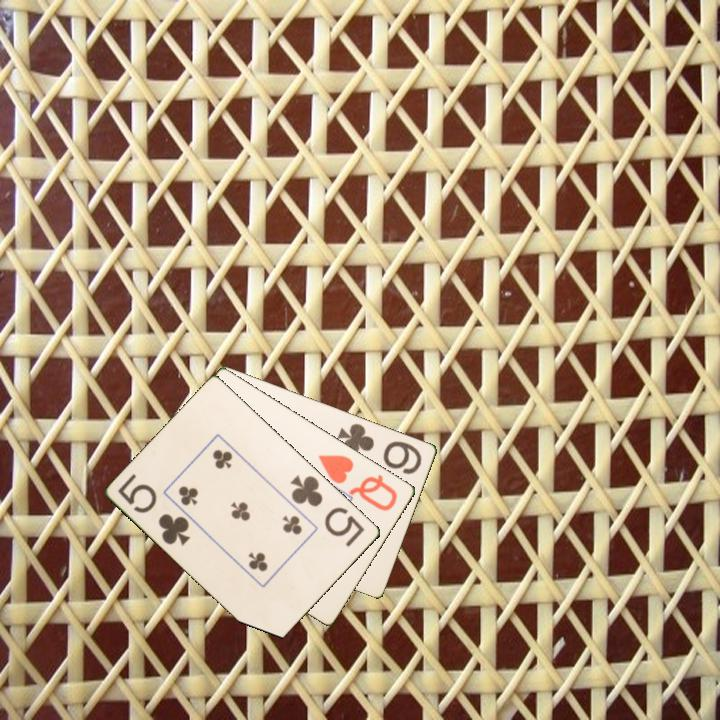5c: (286, 471, 368, 550), (114, 470, 193, 548)
6c: (334, 420, 425, 477)
Qh: (315, 451, 401, 514)
